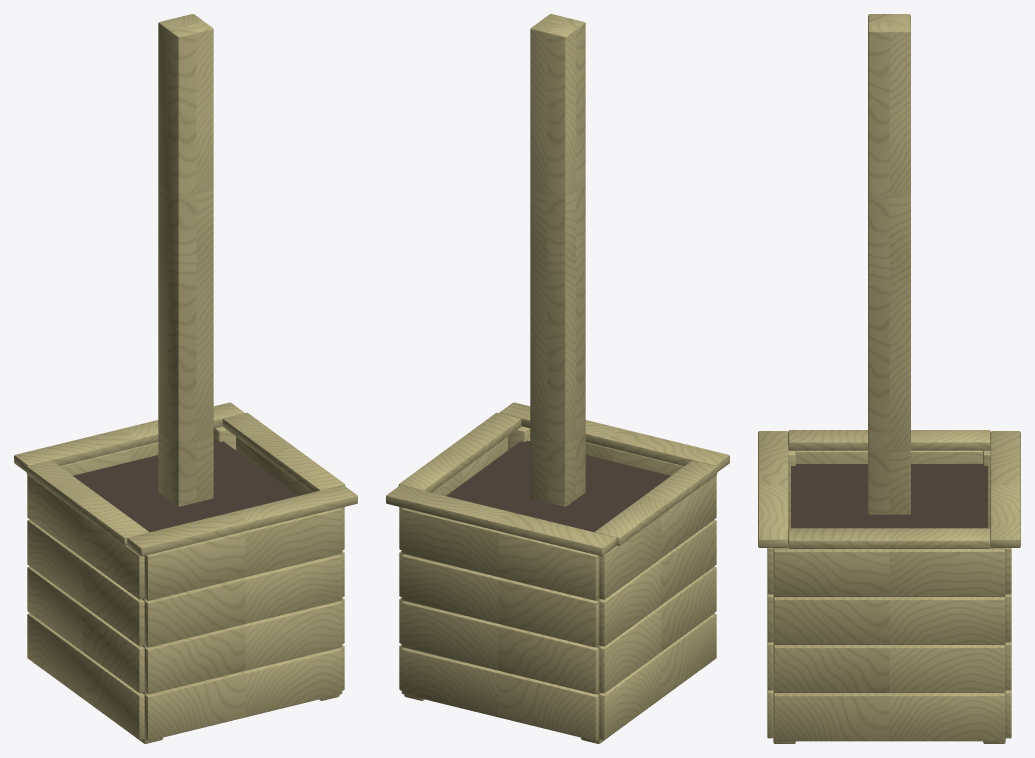
File: planter-box.glb
3 renders of one model, left to right at view 1: azimuth 30°, elevation 25°; view 2: azimuth 150°, elevation 25°; view 3: azimuth 270°, elevation 25°, orthographic. The views are drawn at different scales.
Visible parts, largest first — view 1: Umbrella planter; view 2: Umbrella planter; view 3: Umbrella planter.
Part boxes in pixels (x1,y1,x2,y2): Umbrella planter: (14, 14, 357, 743); Umbrella planter: (386, 14, 729, 743); Umbrella planter: (758, 14, 1020, 743).
Bounding box in the file's own units: 0.52 × 1.47 × 0.52.
Materials: 2 (1 with a texture image).
